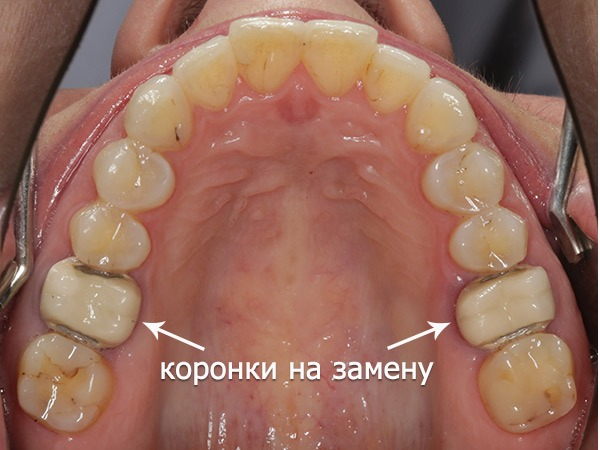UL1BC_decay: (422, 144, 504, 213)
UL1M_decay: (457, 266, 552, 348)
UL2BC_healthy: (450, 210, 527, 267)
UL2M_decay: (481, 333, 575, 431)
ULCI_healthy: (303, 19, 376, 92)
ULC_healthy: (413, 76, 476, 141)
ULLI_healthy: (366, 44, 428, 112)
UR1BC_healthy: (95, 141, 175, 207)
UR1M_decay: (41, 264, 139, 346)
UR2BC_healthy: (71, 206, 151, 263)
UR2M_decay: (17, 335, 109, 429)
URCI_healthy: (231, 18, 303, 92)
URC_decay: (125, 76, 194, 150)
URLI_healthy: (174, 36, 235, 109)
